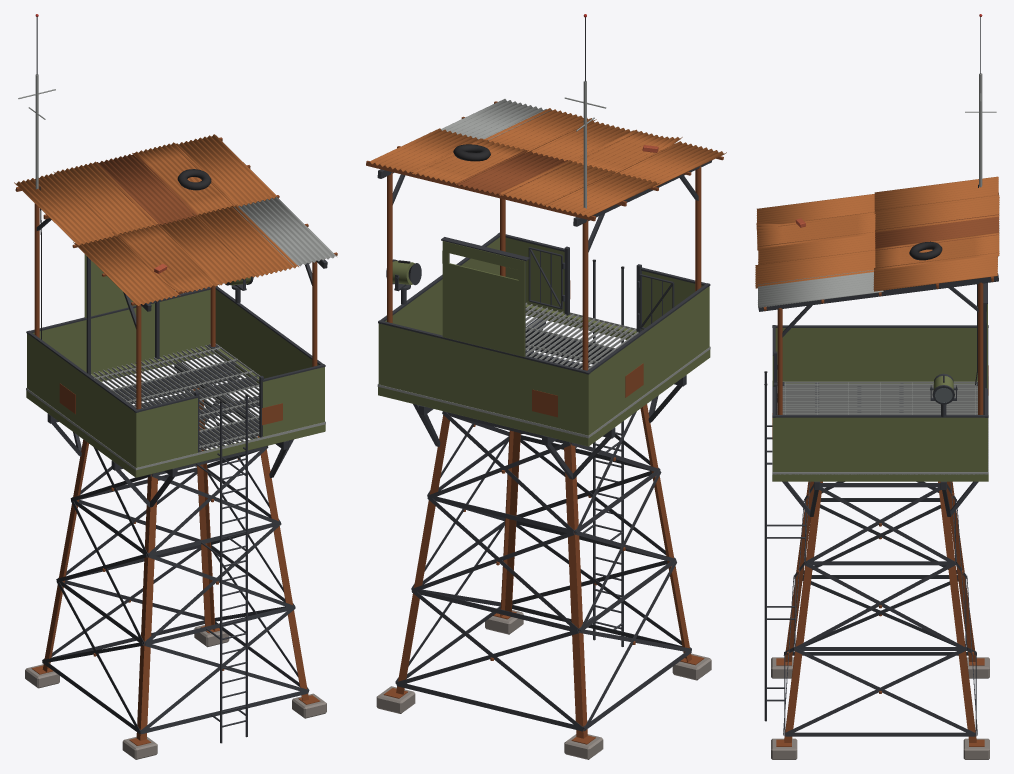
The model's file is deco_watchtower_metal_lattice.fbx.
3 views of the same model, side by side, from view 1: azimuth 30°, elevation 25°; view 2: azimuth 150°, elevation 25°; view 3: azimuth 270°, elevation 25° (orthographic). The views are drawn at different scales.
Parts seen in each view (by area): view 1: Watchtower_MetalLattice_Sheets, Watchtower_MetalLattice_Parapet, Watchtower_MetalLattice_Bracing, Watchtower_MetalLattice_Legs, Watchtower_MetalLattice_Grating, Watchtower_MetalLattice_DeckFrame, Watchtower_MetalLattice_RoofFrame, Watchtower_MetalLattice_Ladder; view 2: Watchtower_MetalLattice_Parapet, Watchtower_MetalLattice_Sheets, Watchtower_MetalLattice_Bracing, Watchtower_MetalLattice_Legs, Watchtower_MetalLattice_DeckFrame, Watchtower_MetalLattice_RoofFrame, Watchtower_MetalLattice_Grating, Watchtower_MetalLattice_Ladder, Watchtower_MetalLattice_GateR, Watchtower_MetalLattice_SearchlightHead, Watchtower_MetalLattice_GateL; view 3: Watchtower_MetalLattice_Parapet, Watchtower_MetalLattice_Sheets, Watchtower_MetalLattice_Bracing, Watchtower_MetalLattice_Legs, Watchtower_MetalLattice_Grating, Watchtower_MetalLattice_RoofFrame, Watchtower_MetalLattice_DeckFrame, Watchtower_MetalLattice_Ladder, Watchtower_MetalLattice_SearchlightHead.
Part boxes in pixels (x1,y1,x2,y2): Watchtower_MetalLattice_Sheets: [14, 134, 336, 306]; Watchtower_MetalLattice_Parapet: [26, 254, 325, 467]; Watchtower_MetalLattice_Bracing: [42, 401, 309, 734]; Watchtower_MetalLattice_Legs: [25, 388, 326, 759]; Watchtower_MetalLattice_Grating: [26, 343, 325, 470]; Watchtower_MetalLattice_DeckFrame: [26, 346, 325, 507]; Watchtower_MetalLattice_RoofFrame: [15, 14, 337, 409]; Watchtower_MetalLattice_Ladder: [196, 394, 248, 743]; Watchtower_MetalLattice_Parapet: [378, 232, 710, 435]; Watchtower_MetalLattice_Sheets: [367, 99, 726, 217]; Watchtower_MetalLattice_Bracing: [395, 411, 691, 731]; Watchtower_MetalLattice_Legs: [376, 404, 711, 759]; Watchtower_MetalLattice_DeckFrame: [378, 304, 710, 479]; Watchtower_MetalLattice_RoofFrame: [366, 14, 723, 370]; Watchtower_MetalLattice_Grating: [377, 302, 710, 438]; Watchtower_MetalLattice_Ladder: [575, 259, 624, 646]; Watchtower_MetalLattice_GateR: [528, 247, 565, 309]; Watchtower_MetalLattice_SearchlightHead: [386, 259, 421, 285]; Watchtower_MetalLattice_GateL: [637, 274, 674, 329]; Watchtower_MetalLattice_Parapet: [772, 283, 988, 471]; Watchtower_MetalLattice_Sheets: [755, 176, 999, 307]; Watchtower_MetalLattice_Bracing: [783, 481, 977, 736]; Watchtower_MetalLattice_Legs: [771, 481, 989, 759]; Watchtower_MetalLattice_Grating: [772, 381, 988, 474]; Watchtower_MetalLattice_RoofFrame: [758, 14, 998, 414]; Watchtower_MetalLattice_DeckFrame: [772, 383, 988, 516]; Watchtower_MetalLattice_Ladder: [764, 371, 804, 721]; Watchtower_MetalLattice_SearchlightHead: [930, 373, 957, 404].
Size of the model in its own units: 458 by 1376 by 463.
